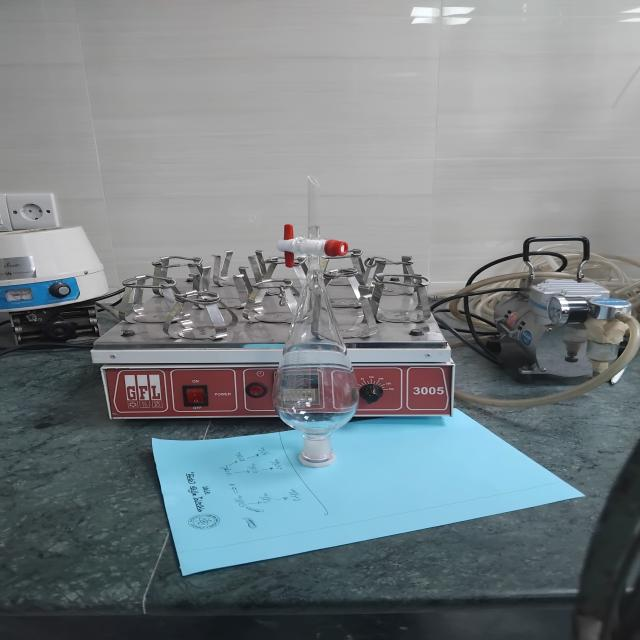Separating_Funnel: (242, 146, 402, 480)
